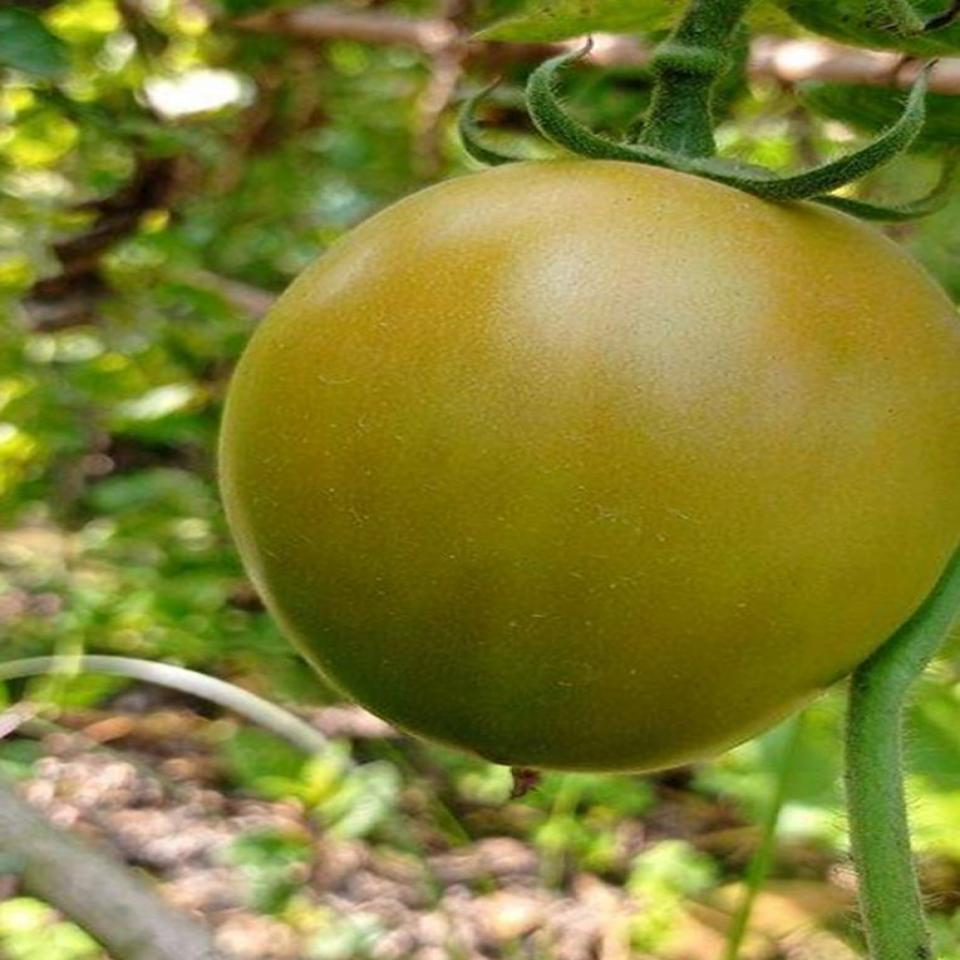Healthy: (206, 111, 960, 795)
